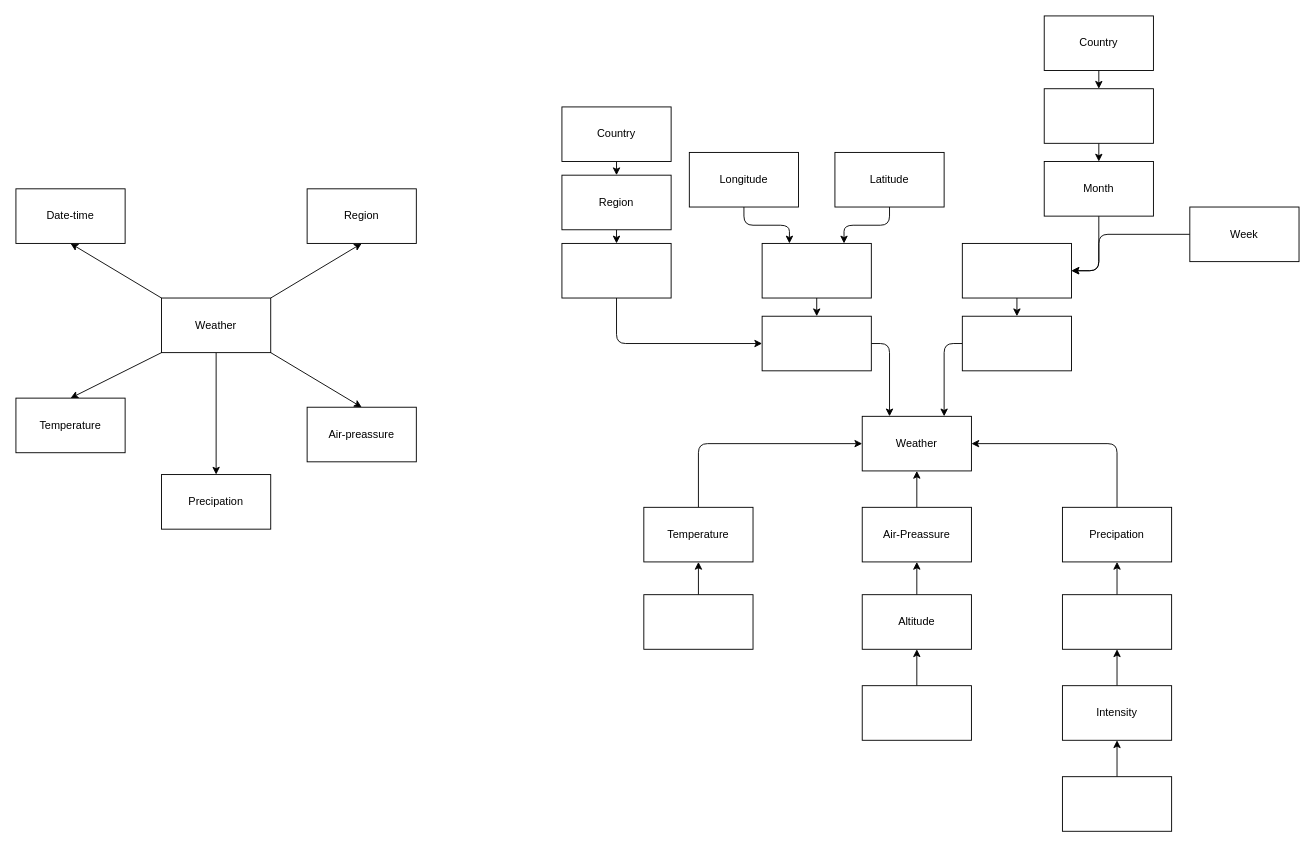
This 1315x847 diagram has some shape labels left out. The shapes that lost their labels are listed below. From the top down, each one's centre as x and y in pixels, then its label:
point (1098, 115): Quarter
point (616, 270): City
point (816, 270): Cordinates
point (1016, 270): Day
point (816, 343): Station
point (1016, 343): Hour
point (698, 621): Kelvin
point (1117, 621): Volume
point (916, 712): Humidity
point (1117, 803): Duration
